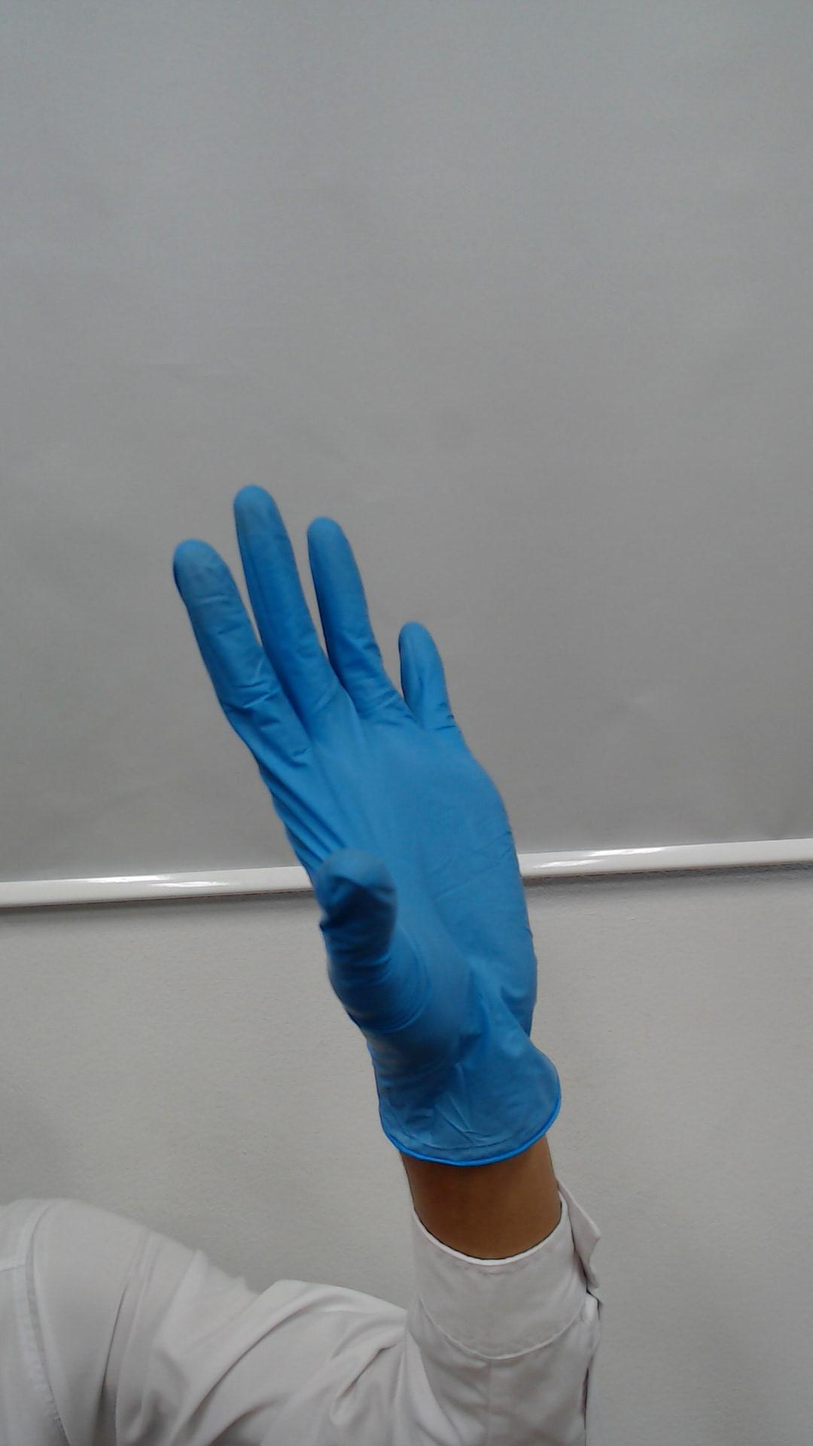gloves: (141, 457, 603, 1035)
